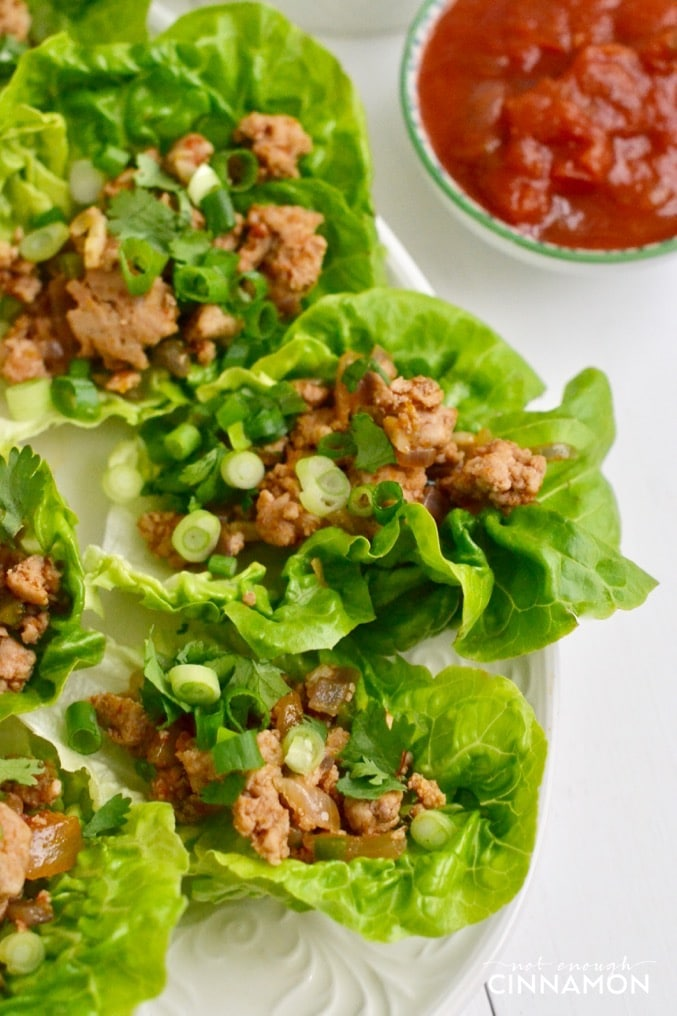chopped lettuce: (136, 513, 604, 684), (24, 10, 365, 242), (128, 264, 600, 430), (317, 658, 536, 939), (18, 736, 179, 1016)
